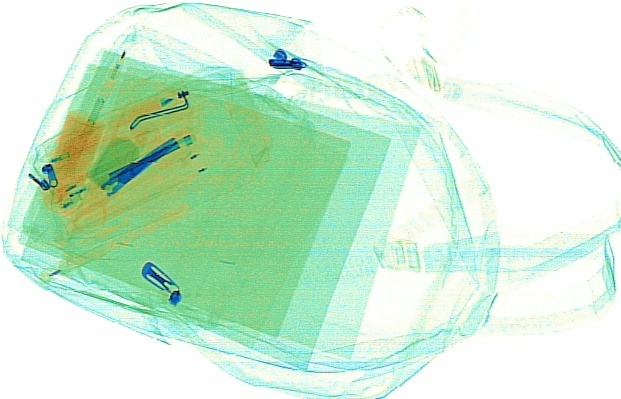scissors: (47, 135, 179, 236)
